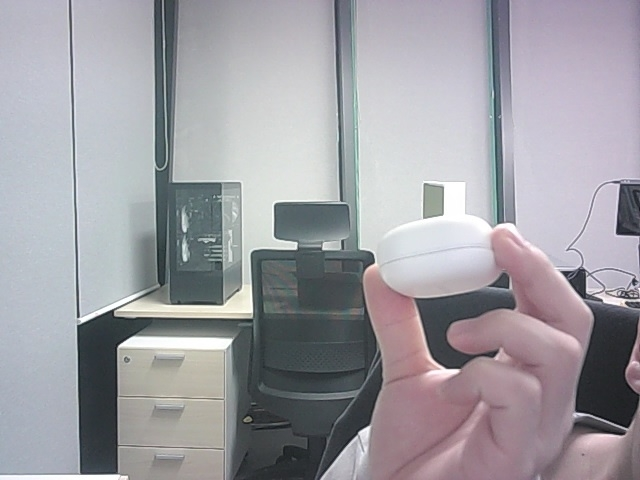case: (377, 215, 500, 298)
